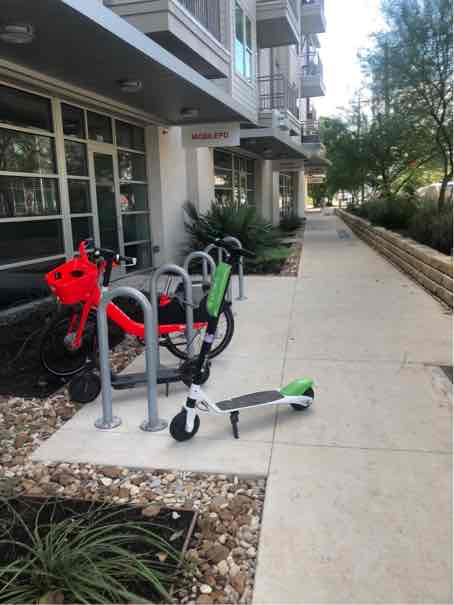scooter: (165, 225, 323, 430)
